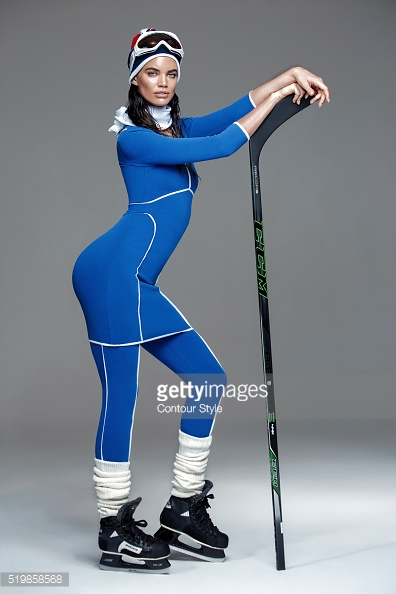em pe: (42, 22, 297, 503)
